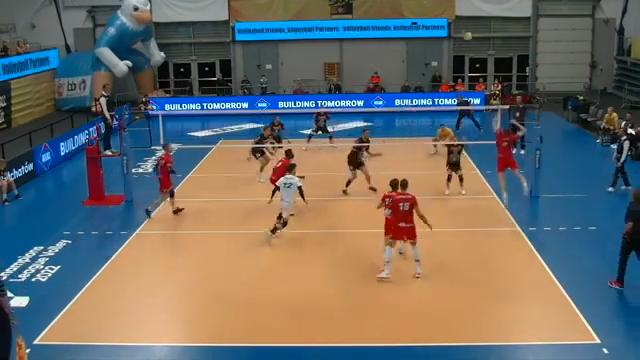Attack: (487, 112, 534, 207)
Player: (377, 179, 431, 279), (267, 163, 306, 243), (145, 144, 183, 217), (342, 129, 381, 194), (377, 178, 398, 244), (247, 126, 272, 181), (445, 137, 465, 194), (306, 109, 334, 145), (270, 149, 293, 185), (432, 124, 453, 153), (268, 116, 284, 148)
ball: (464, 29, 473, 42)
